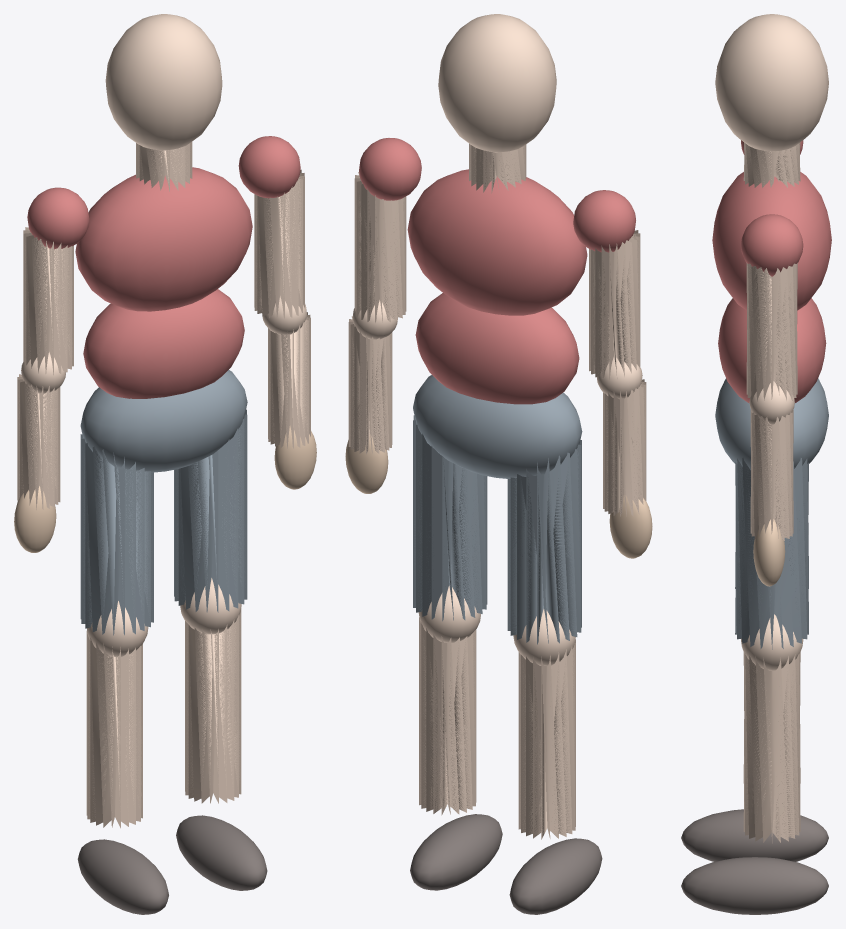
File: human-body.glb
The picture shows the model from 3 angles, left to right: view 1: azimuth 30°, elevation 25°; view 2: azimuth 150°, elevation 25°; view 3: azimuth 270°, elevation 25°; orthographic projection.
Visible parts, largest first — view 1: Mune Dada, Onaka Perut, Atama Kepala, Momo Paha Kiri, Momo Paha Kanan, Koshi Pinggul, Ashi Betis Kiri, Ashi Betis Kanan, Ude Atas Kiri, Ude Atas Kanan, Ude Bawah Kiri, Ude Bawah Kanan (+11 smaller); view 2: Mune Dada, Onaka Perut, Atama Kepala, Momo Paha Kiri, Momo Paha Kanan, Koshi Pinggul, Ashi Betis Kiri, Ashi Betis Kanan, Ude Atas Kiri, Ude Atas Kanan, Ude Bawah Kanan, Ude Bawah Kiri (+11 smaller); view 3: Atama Kepala, Ashi Betis Kanan, Momo Paha Kanan, Mune Dada, Ashikubi Kaki Kanan, Ude Atas Kanan, Ude Bawah Kanan, Ashikubi Kaki Kiri, Onaka Perut, Koshi Pinggul, Kata Bahu Kanan, Kubi Leher (+3 smaller).
Boxes of the visible parts, x1=… form: Mune Dada: x1=75, y1=167, x2=252, y2=311; Onaka Perut: x1=83, y1=289, x2=244, y2=398; Atama Kepala: x1=105, y1=14, x2=222, y2=150; Momo Paha Kiri: x1=80, y1=434, x2=153, y2=635; Momo Paha Kanan: x1=174, y1=409, x2=247, y2=612; Koshi Pinggul: x1=80, y1=370, x2=247, y2=472; Ashi Betis Kiri: x1=86, y1=631, x2=142, y2=828; Ashi Betis Kanan: x1=185, y1=609, x2=241, y2=803; Ude Atas Kiri: x1=23, y1=227, x2=73, y2=375; Ude Atas Kanan: x1=254, y1=169, x2=304, y2=318; Ude Bawah Kiri: x1=17, y1=374, x2=60, y2=509; Ude Bawah Kanan: x1=268, y1=312, x2=310, y2=448; Mune Dada: x1=407, y1=169, x2=587, y2=315; Onaka Perut: x1=415, y1=293, x2=579, y2=404; Atama Kepala: x1=438, y1=14, x2=556, y2=152; Momo Paha Kiri: x1=507, y1=440, x2=581, y2=644; Momo Paha Kanan: x1=413, y1=415, x2=487, y2=621; Koshi Pinggul: x1=413, y1=375, x2=582, y2=478; Ashi Betis Kiri: x1=518, y1=639, x2=575, y2=839; Ashi Betis Kanan: x1=419, y1=617, x2=476, y2=815; Ude Atas Kiri: x1=589, y1=230, x2=640, y2=379; Ude Atas Kanan: x1=354, y1=172, x2=406, y2=322; Ude Bawah Kanan: x1=348, y1=316, x2=392, y2=454; Ude Bawah Kiri: x1=603, y1=379, x2=646, y2=516; Atama Kepala: x1=715, y1=14, x2=828, y2=151; Ashi Betis Kanan: x1=743, y1=652, x2=800, y2=843; Momo Paha Kanan: x1=735, y1=457, x2=808, y2=649; Mune Dada: x1=712, y1=172, x2=831, y2=310; Ashikubi Kaki Kanan: x1=681, y1=857, x2=828, y2=914; Ude Atas Kanan: x1=746, y1=262, x2=797, y2=401; Ude Bawah Kanan: x1=750, y1=410, x2=793, y2=540; Ashikubi Kaki Kiri: x1=681, y1=809, x2=828, y2=861; Onaka Perut: x1=718, y1=298, x2=826, y2=403; Koshi Pinggul: x1=715, y1=378, x2=828, y2=470; Kata Bahu Kanan: x1=741, y1=214, x2=803, y2=276; Kubi Leher: x1=743, y1=142, x2=800, y2=187.
Size of the model in its own units: 0.61 by 1.69 by 0.265.
